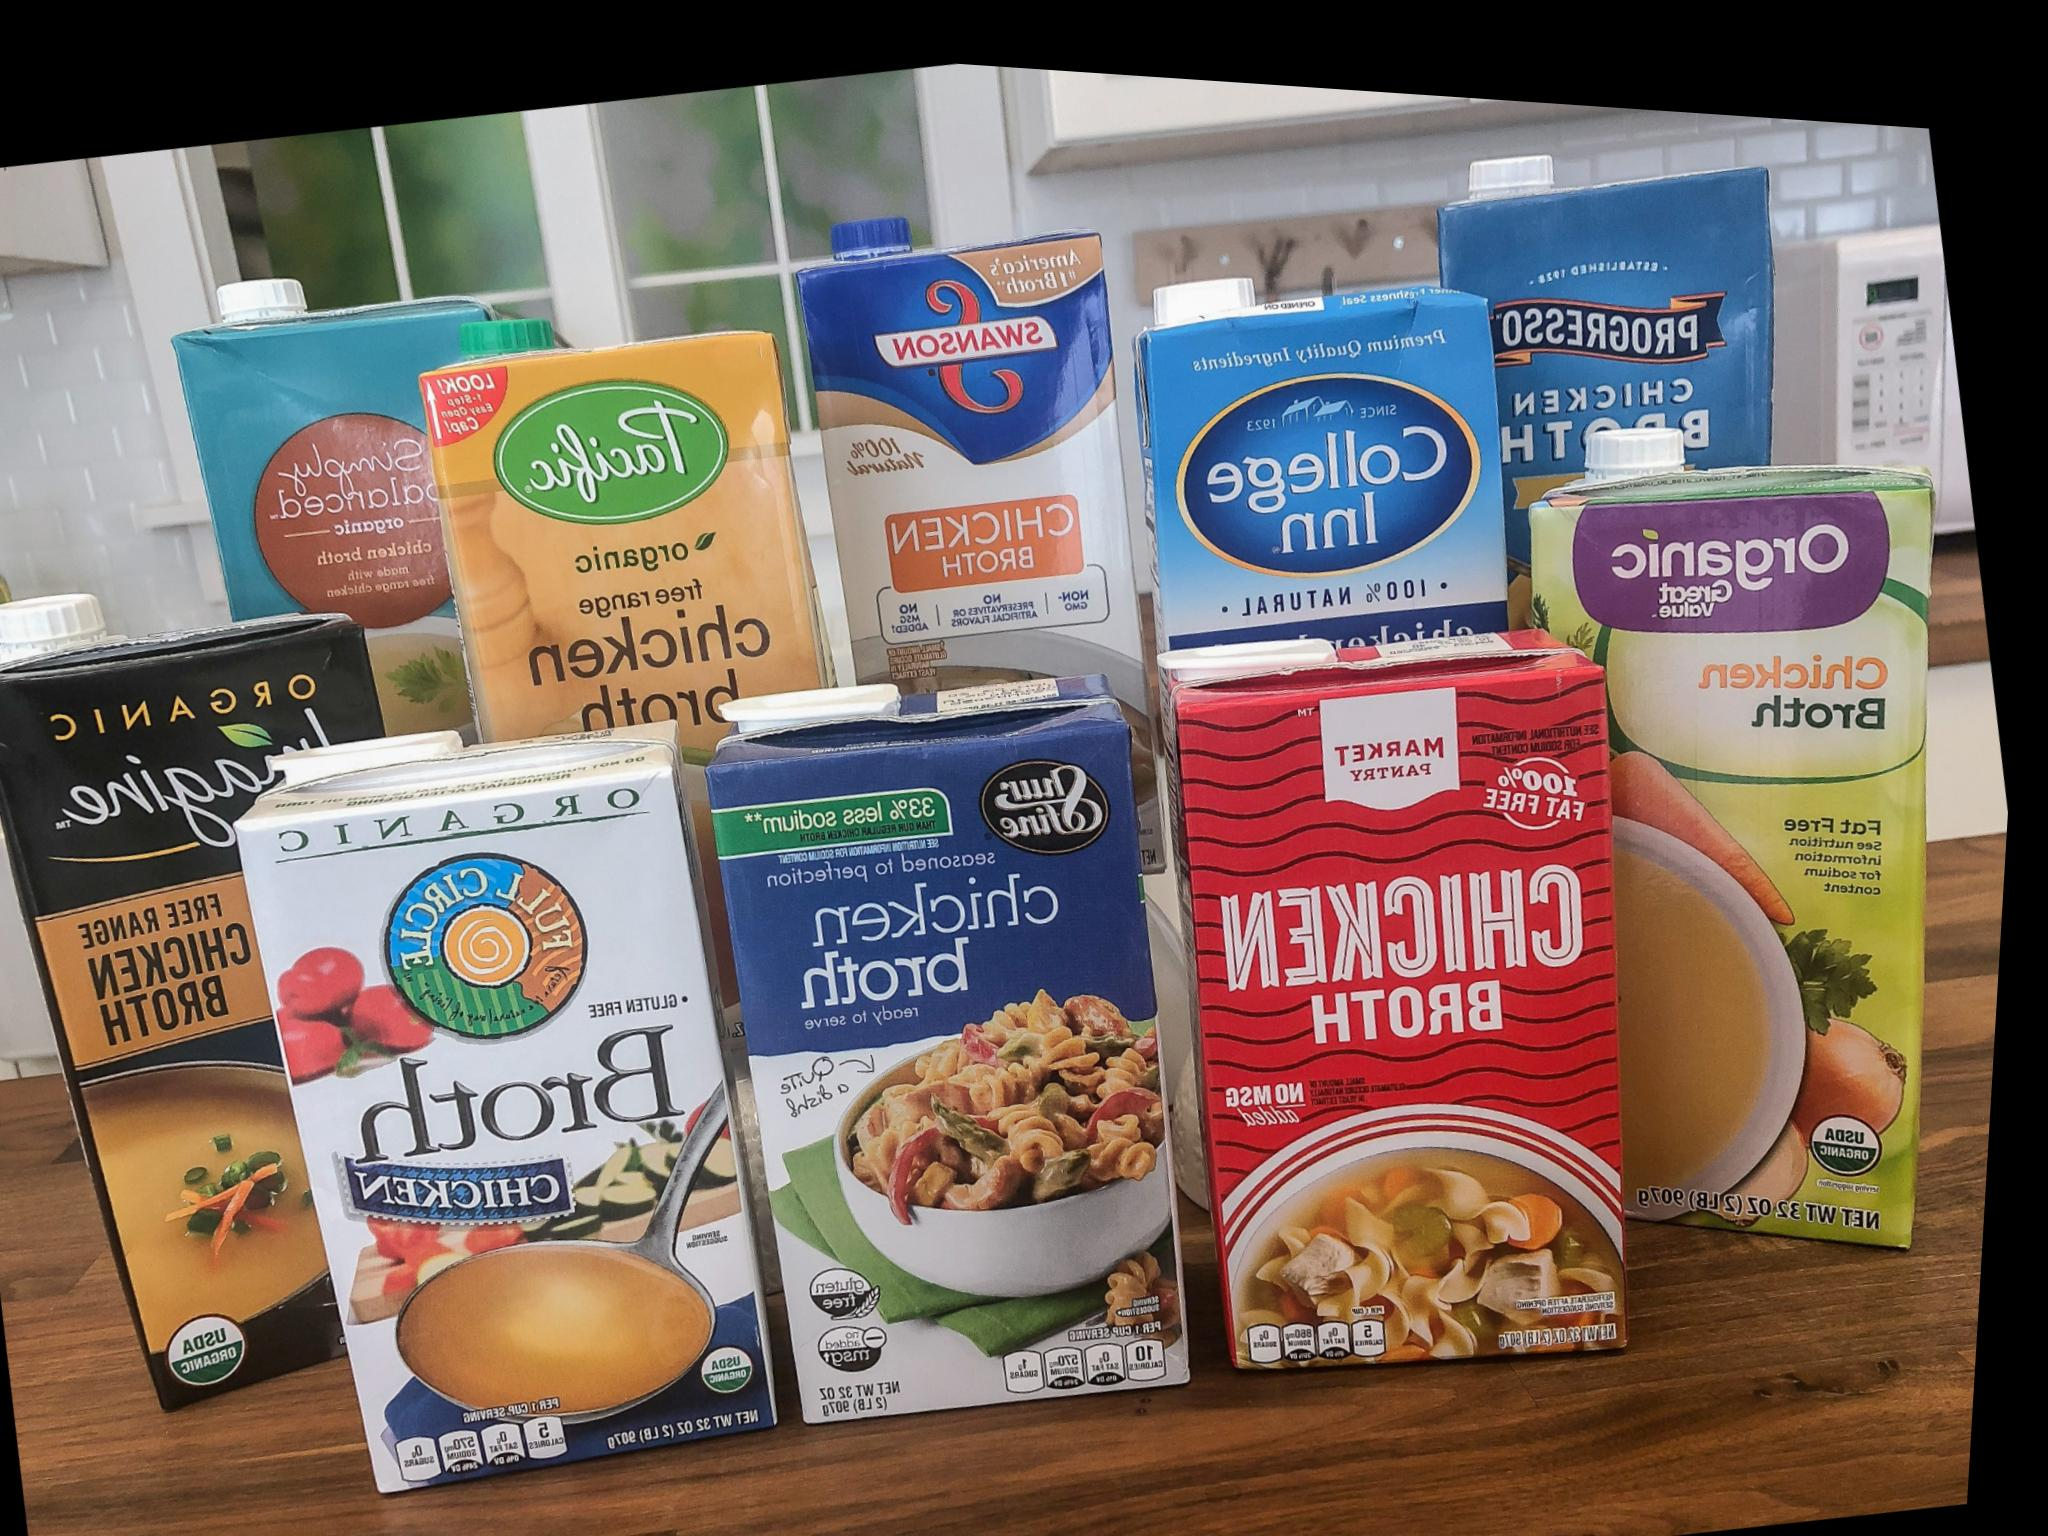cardboard: (174, 668, 822, 1536), (1463, 361, 2032, 1313), (1097, 561, 1719, 1415), (660, 611, 1247, 1463), (0, 515, 508, 1455), (384, 273, 851, 765), (760, 173, 1182, 715), (150, 215, 556, 765), (1089, 213, 1555, 681), (1416, 95, 1845, 521)
